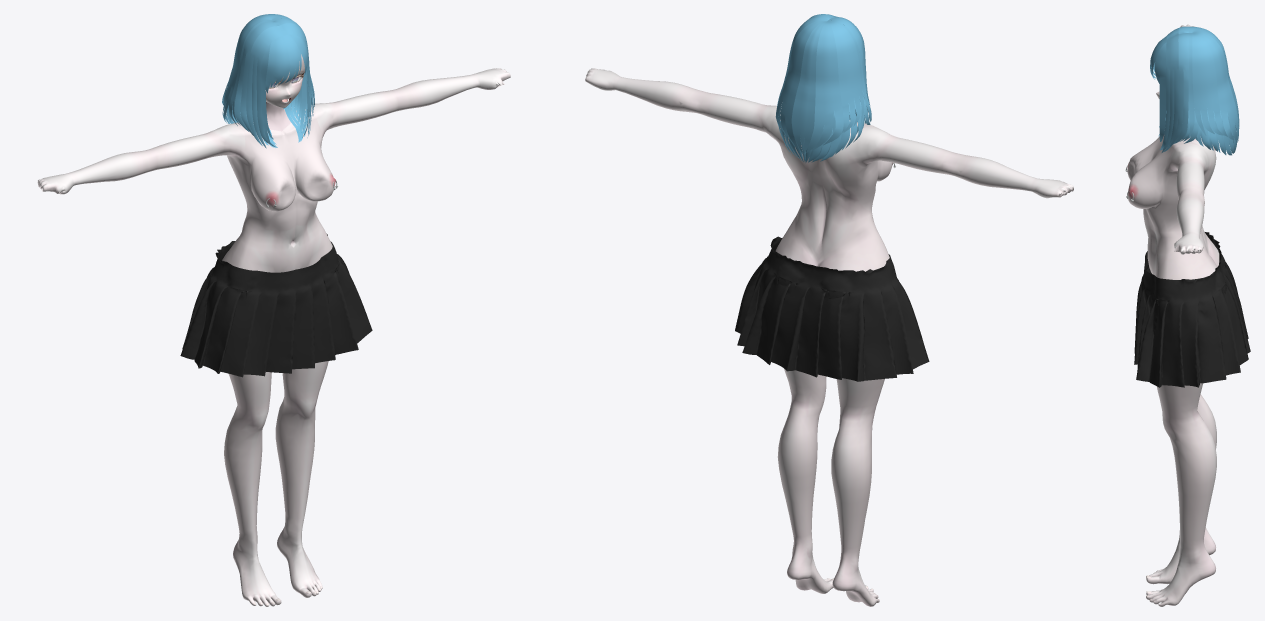
Rendered from guide-ready-for-mixamo.fbx.
3 renders of one model, left to right at view 1: azimuth 30°, elevation 25°; view 2: azimuth 150°, elevation 25°; view 3: azimuth 270°, elevation 25°, orthographic. The views are drawn at different scales.
Visible parts, largest first — view 1: 1, Skirt, Object_26, Object_34, Object_28, Object_32, 0; view 2: 1, Skirt, Object_28; view 3: 1, Skirt, Object_28, Object_26, Object_34, Object_30.
Boxes of the visible parts, left/top/right/bottom form: 1: left=37, top=68, right=510, bottom=606; Skirt: left=180, top=234, right=372, bottom=377; Object_26: left=234, top=18, right=314, bottom=148; Object_34: left=261, top=34, right=308, bottom=147; Object_28: left=222, top=14, right=314, bottom=125; Object_32: left=263, top=66, right=308, bottom=147; 0: left=265, top=54, right=304, bottom=107; 1: left=585, top=68, right=1073, bottom=606; Skirt: left=735, top=236, right=929, bottom=381; Object_28: left=775, top=16, right=871, bottom=162; 1: left=1127, top=24, right=1219, bottom=606; Skirt: left=1134, top=232, right=1250, bottom=387; Object_28: left=1180, top=26, right=1239, bottom=155; Object_26: left=1161, top=26, right=1188, bottom=152; Object_34: left=1150, top=36, right=1166, bottom=141; Object_30: left=1183, top=120, right=1233, bottom=154.
Bounding box in the file's own units: 1.42 × 1.49 × 0.303.
5 materials, 3 textured.
